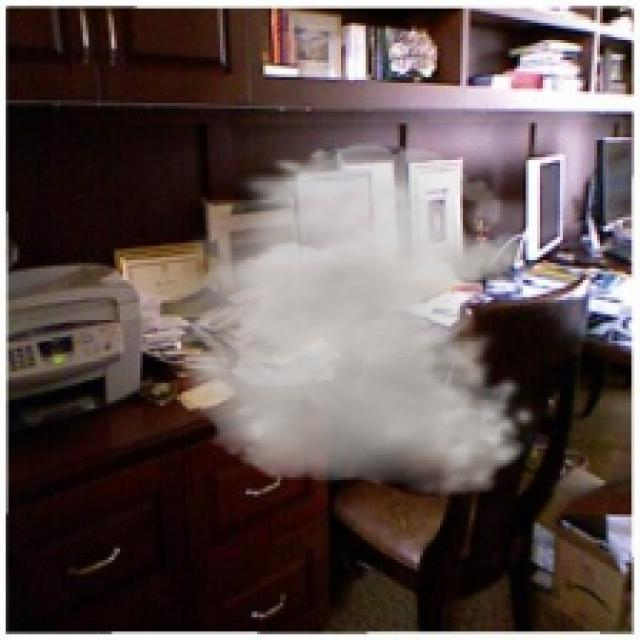smoke: (131, 143, 540, 497)
